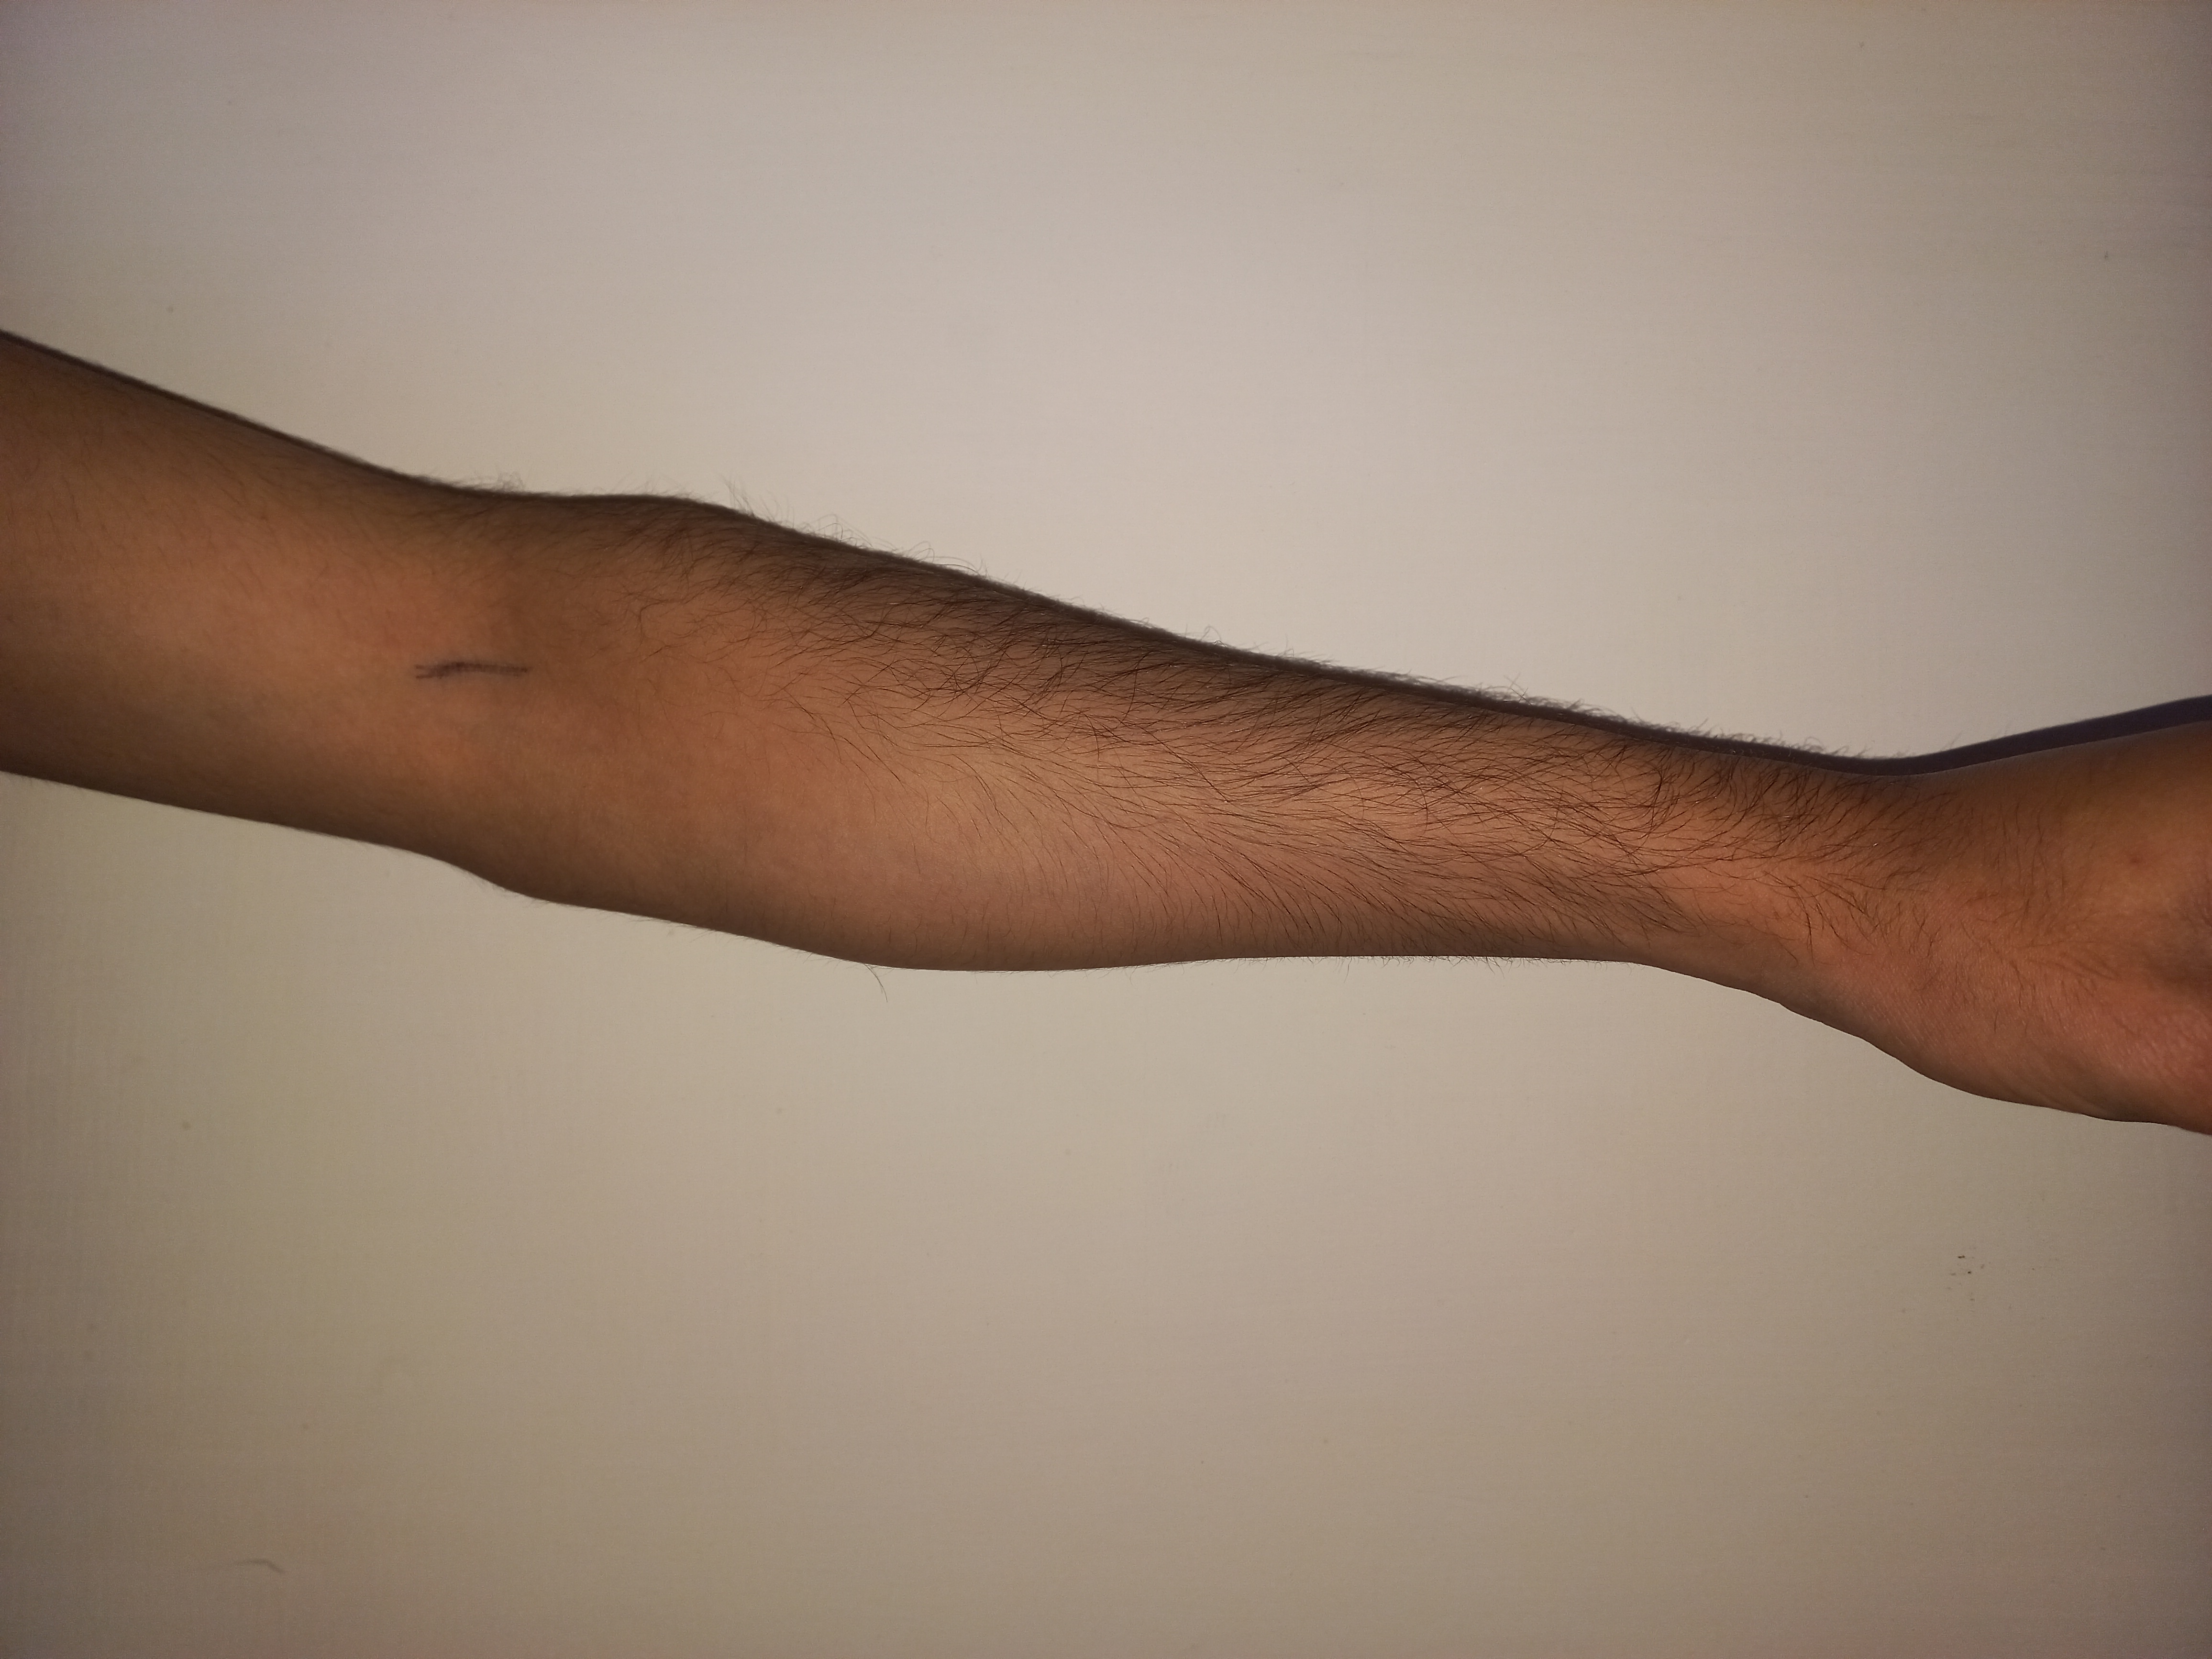vein: (409, 650, 556, 694)
